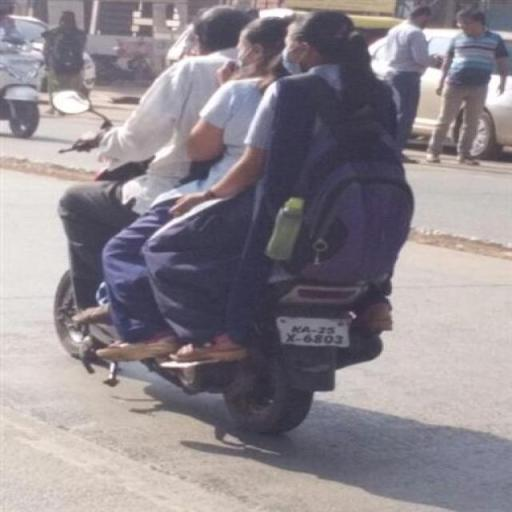tripple riding: (58, 5, 434, 276)
